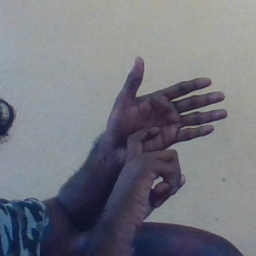R: (89, 53, 230, 203)
